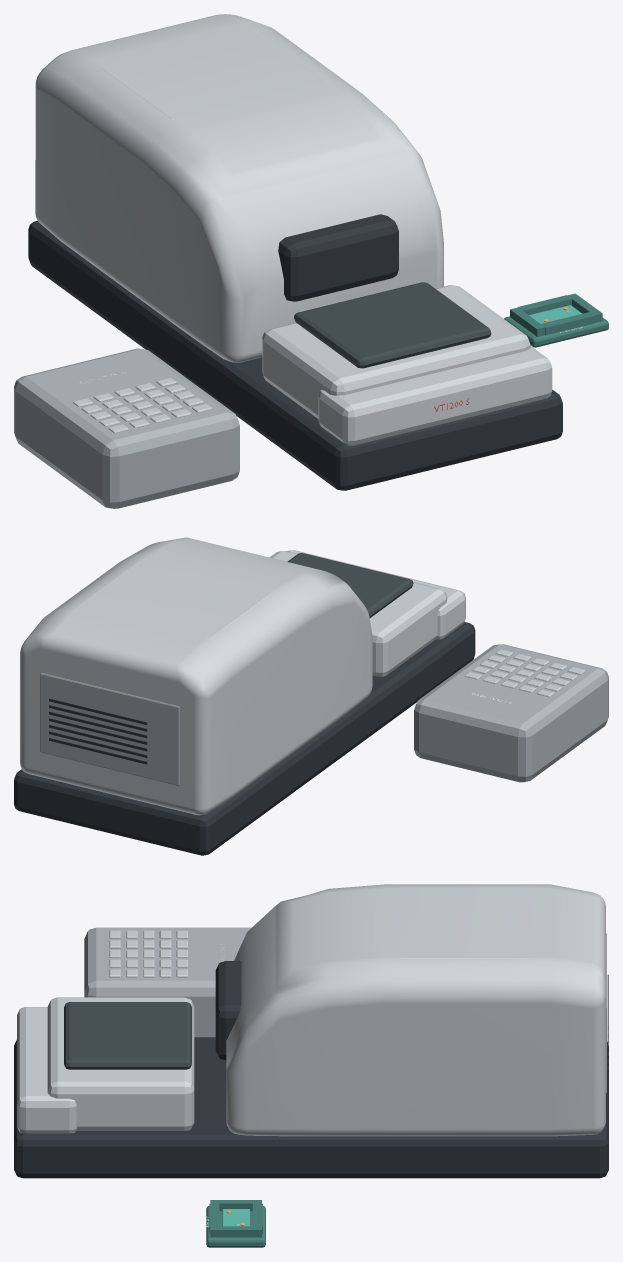
File: vt1200s-reference.glb
The picture shows the model from 3 angles, top to bottom: view 1: azimuth 30°, elevation 25°; view 2: azimuth 150°, elevation 25°; view 3: azimuth 270°, elevation 25°; orthographic projection. The views are drawn at different scales.
Parts seen in each view (by area): view 1: EXTERIOR_REAR_HOUSING, BASE_LENGTH_DATUM, CONTROLLER_DATUM, FRONT_FASCIA, FRONT_SHALLOW_DECK, SEALED_REFERENCE_BAY, BLANK_FRONT_ACCESS_COVER, TRAY_BASE, OPENING_WALL_Z; view 2: EXTERIOR_REAR_HOUSING, BASE_LENGTH_DATUM, CONTROLLER_DATUM, INACTIVE_REAR_PANEL, FRONT_SHALLOW_DECK, SEALED_REFERENCE_BAY, FRONT_FASCIA, TOP_HEIGHT_DATUM; view 3: EXTERIOR_REAR_HOUSING, BASE_LENGTH_DATUM, FRONT_SHALLOW_DECK, CONTROLLER_DATUM, SEALED_REFERENCE_BAY, FRONT_FASCIA, BLANK_FRONT_ACCESS_COVER, TOP_HEIGHT_DATUM, TRAY_BASE, OPENING_WALL_X.001.
Part boxes in pixels (x1=…): EXTERIOR_REAR_HOUSING: x1=35, y1=14, x2=443, y2=362; BASE_LENGTH_DATUM: x1=28, y1=220, x2=562, y2=490; CONTROLLER_DATUM: x1=14, y1=348, x2=239, y2=508; FRONT_FASCIA: x1=318, y1=346, x2=552, y2=445; FRONT_SHALLOW_DECK: x1=262, y1=285, x2=530, y2=418; SEALED_REFERENCE_BAY: x1=294, y1=282, x2=491, y2=368; BLANK_FRONT_ACCESS_COVER: x1=278, y1=214, x2=398, y2=301; TRAY_BASE: x1=504, y1=316, x2=608, y2=347; OPENING_WALL_Z: x1=541, y1=312, x2=594, y2=335; EXTERIOR_REAR_HOUSING: x1=20, y1=537, x2=372, y2=815; BASE_LENGTH_DATUM: x1=14, y1=622, x2=475, y2=855; CONTROLLER_DATUM: x1=414, y1=644, x2=608, y2=782; INACTIVE_REAR_PANEL: x1=40, y1=673, x2=179, y2=785; FRONT_SHALLOW_DECK: x1=269, y1=551, x2=447, y2=676; SEALED_REFERENCE_BAY: x1=287, y1=553, x2=413, y2=617; FRONT_FASCIA: x1=287, y1=550, x2=465, y2=639; TOP_HEIGHT_DATUM: x1=77, y1=561, x2=270, y2=638; EXTERIOR_REAR_HOUSING: x1=226, y1=884, x2=605, y2=1136; BASE_LENGTH_DATUM: x1=14, y1=1037, x2=608, y2=1178; FRONT_SHALLOW_DECK: x1=47, y1=997, x2=194, y2=1130; CONTROLLER_DATUM: x1=84, y1=927, x2=251, y2=1037; SEALED_REFERENCE_BAY: x1=64, y1=1002, x2=191, y2=1069; FRONT_FASCIA: x1=17, y1=1007, x2=77, y2=1133; BLANK_FRONT_ACCESS_COVER: x1=215, y1=961, x2=241, y2=1060; TOP_HEIGHT_DATUM: x1=399, y1=887, x2=532, y2=958; TRAY_BASE: x1=206, y1=1206, x2=265, y2=1247; OPENING_WALL_X.001: x1=210, y1=1226, x2=261, y2=1237.
Bounding box in the file's own units: 0.623 × 0.23 × 0.6.
